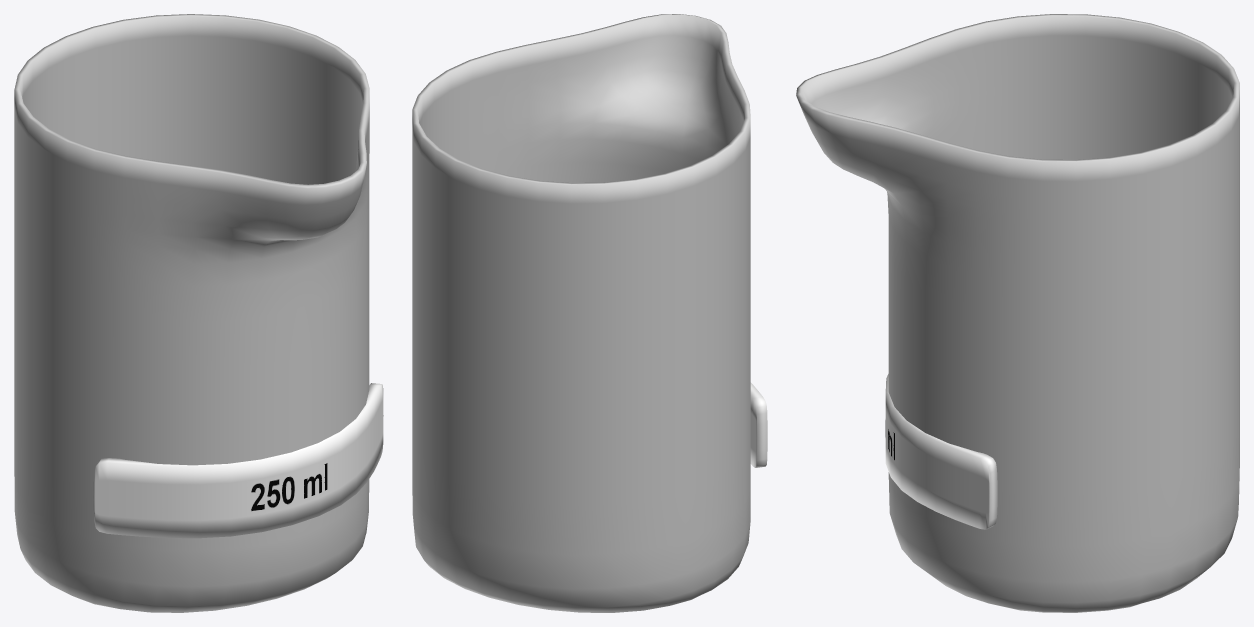
File: Beaker glass 250ml.fbx
The picture shows the model from 3 angles, left to right: view 1: azimuth 30°, elevation 25°; view 2: azimuth 150°, elevation 25°; view 3: azimuth 270°, elevation 25°; orthographic projection. The views are drawn at different scales.
Parts seen in each view (by area): view 1: Cube.051, Cube.100; view 2: Cube.051, Cube.100; view 3: Cube.051, Cube.100.
Part boxes in pixels (box(x1,y1,x2,y2)): Cube.051: box(14, 14, 369, 612); Cube.100: box(93, 383, 383, 538); Cube.051: box(412, 14, 750, 612); Cube.100: box(750, 382, 767, 467); Cube.051: box(796, 14, 1239, 612); Cube.100: box(885, 374, 997, 529).
Bounding box in the file's own units: 6.19 × 8.99 × 7.79.
2 materials, 1 textured.
